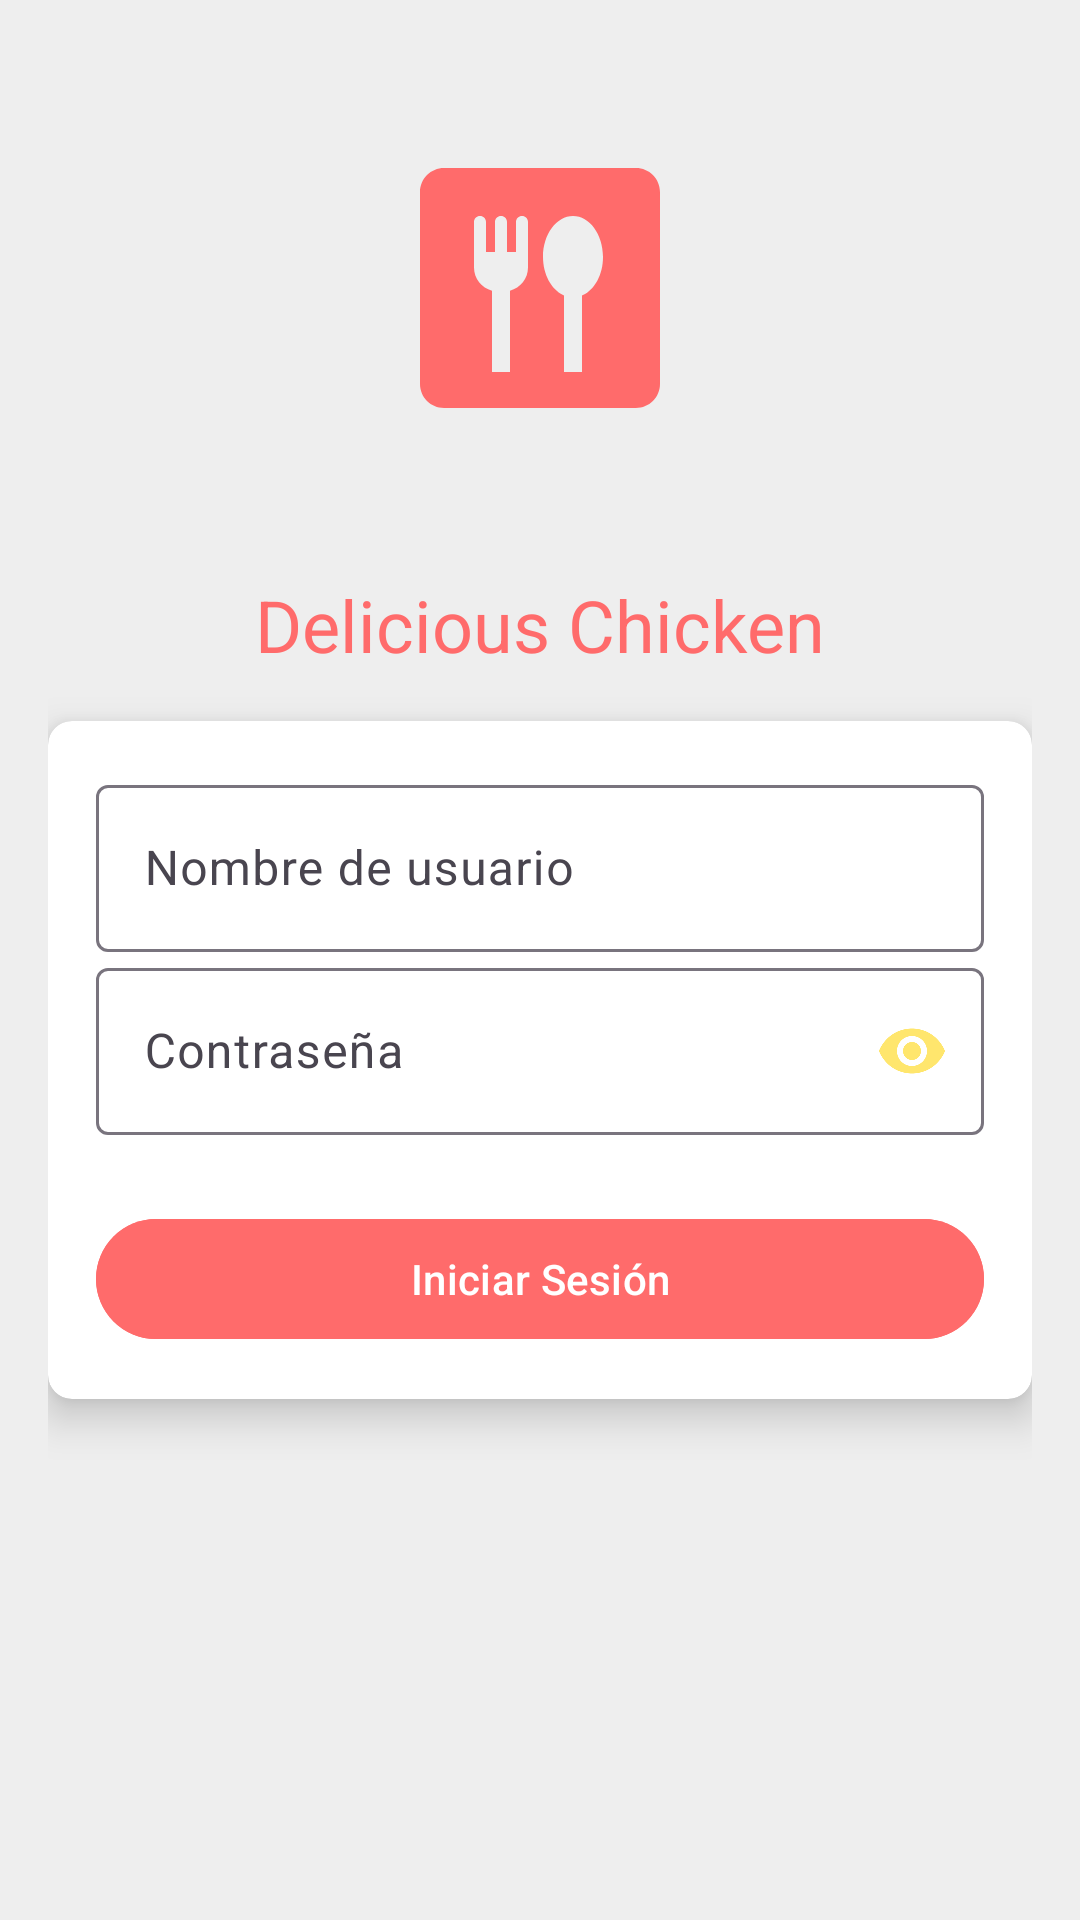

Icons on this 1080x1920 Android screen, each with the point to tap as point (x, y):
app: point (540, 288)
